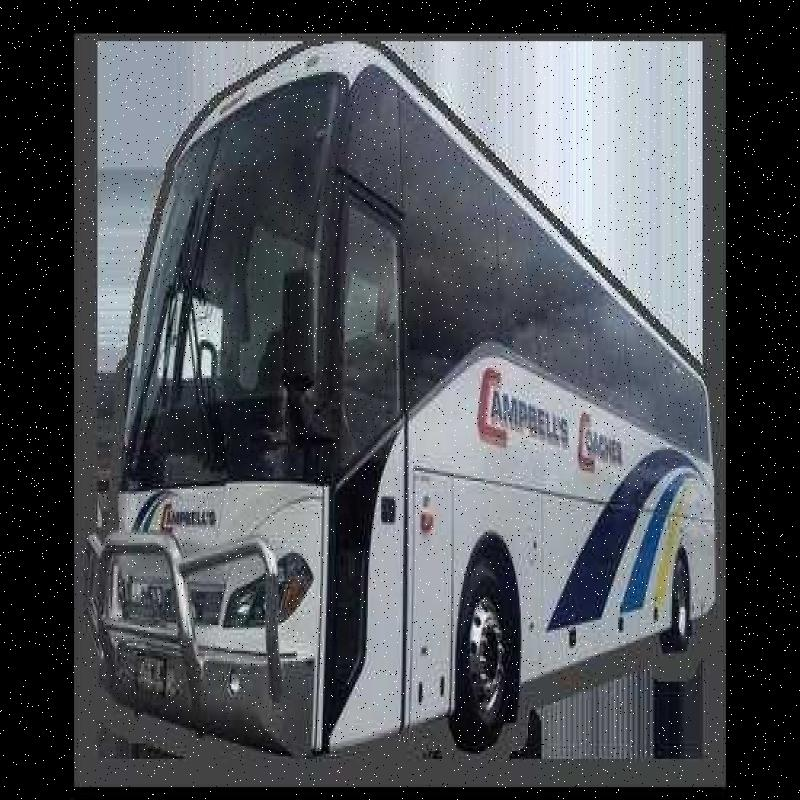bus: (127, 64, 719, 720)
